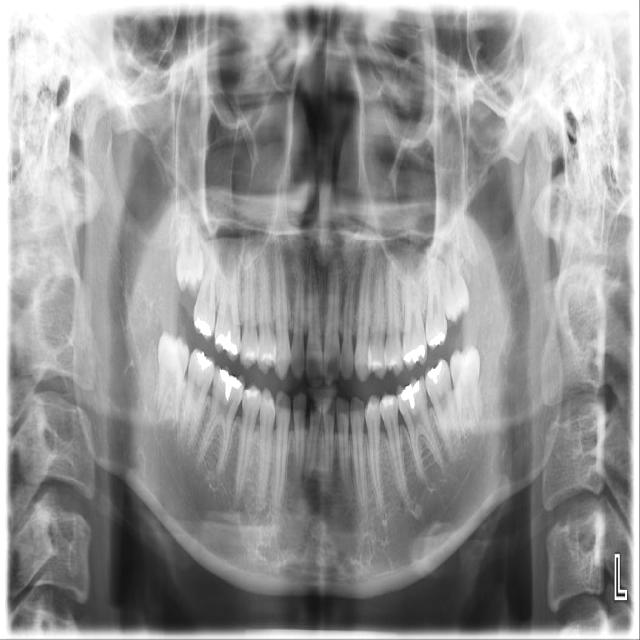Filling: (396, 376, 426, 414), (214, 364, 241, 401), (214, 330, 237, 354), (192, 314, 213, 338), (425, 363, 445, 386), (427, 329, 448, 349), (404, 345, 426, 364), (256, 347, 277, 366), (195, 350, 213, 371), (239, 348, 259, 366), (379, 394, 395, 409), (245, 387, 257, 399)
impacted tooth: (450, 347, 484, 438), (156, 333, 188, 429), (441, 238, 469, 321), (175, 209, 200, 289)
